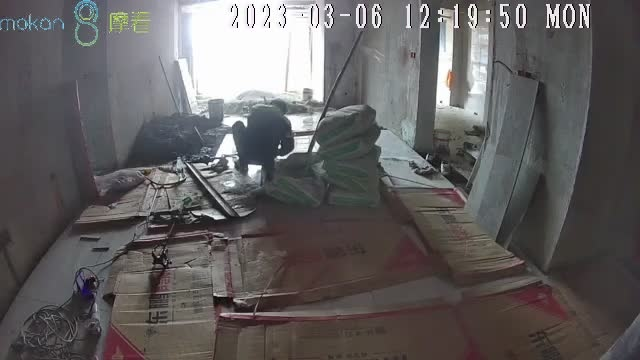people: (232, 98, 296, 178)
window: (195, 9, 316, 91)
